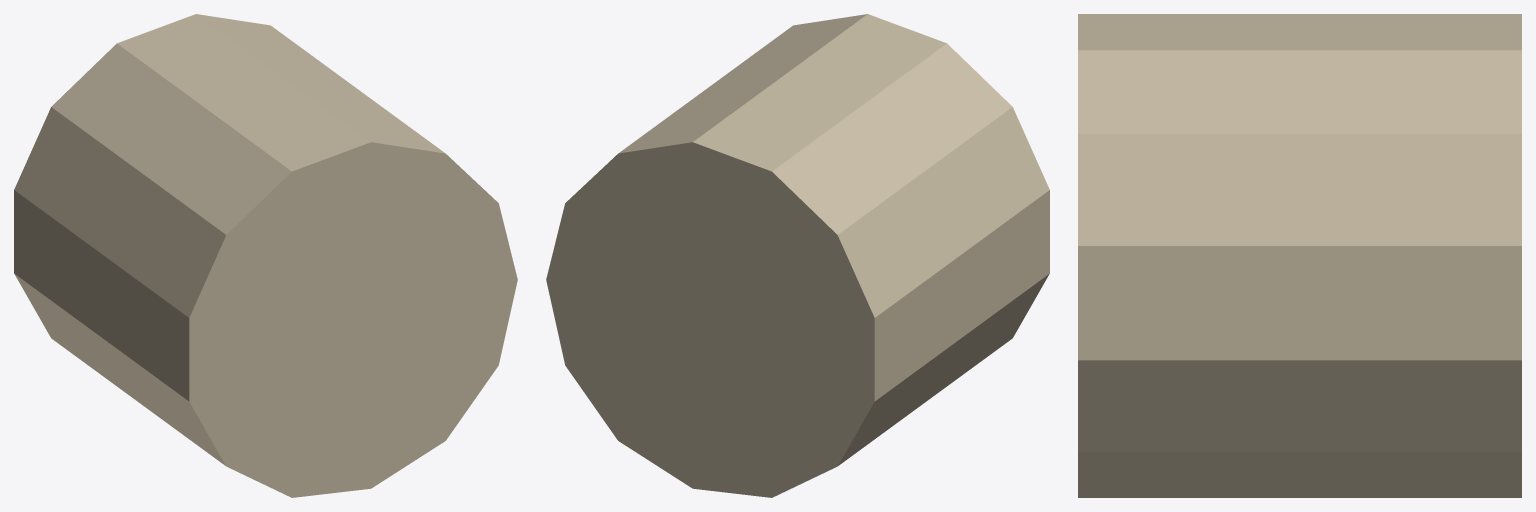
The model's file is dessert.glb.
3 renders of one model, left to right at view 1: azimuth 30°, elevation 25°; view 2: azimuth 150°, elevation 25°; view 3: azimuth 270°, elevation 25°, orthographic. The views are drawn at different scales.
Visible parts, largest first — view 1: geometry_0; view 2: geometry_0; view 3: geometry_0.
Boxes of the visible parts, left/top/right/bottom form: geometry_0: left=14, top=14, right=517, bottom=497; geometry_0: left=546, top=14, right=1049, bottom=497; geometry_0: left=1078, top=14, right=1521, bottom=497.
Size of the model in its own units: 0.065 by 0.0655 by 0.06.
